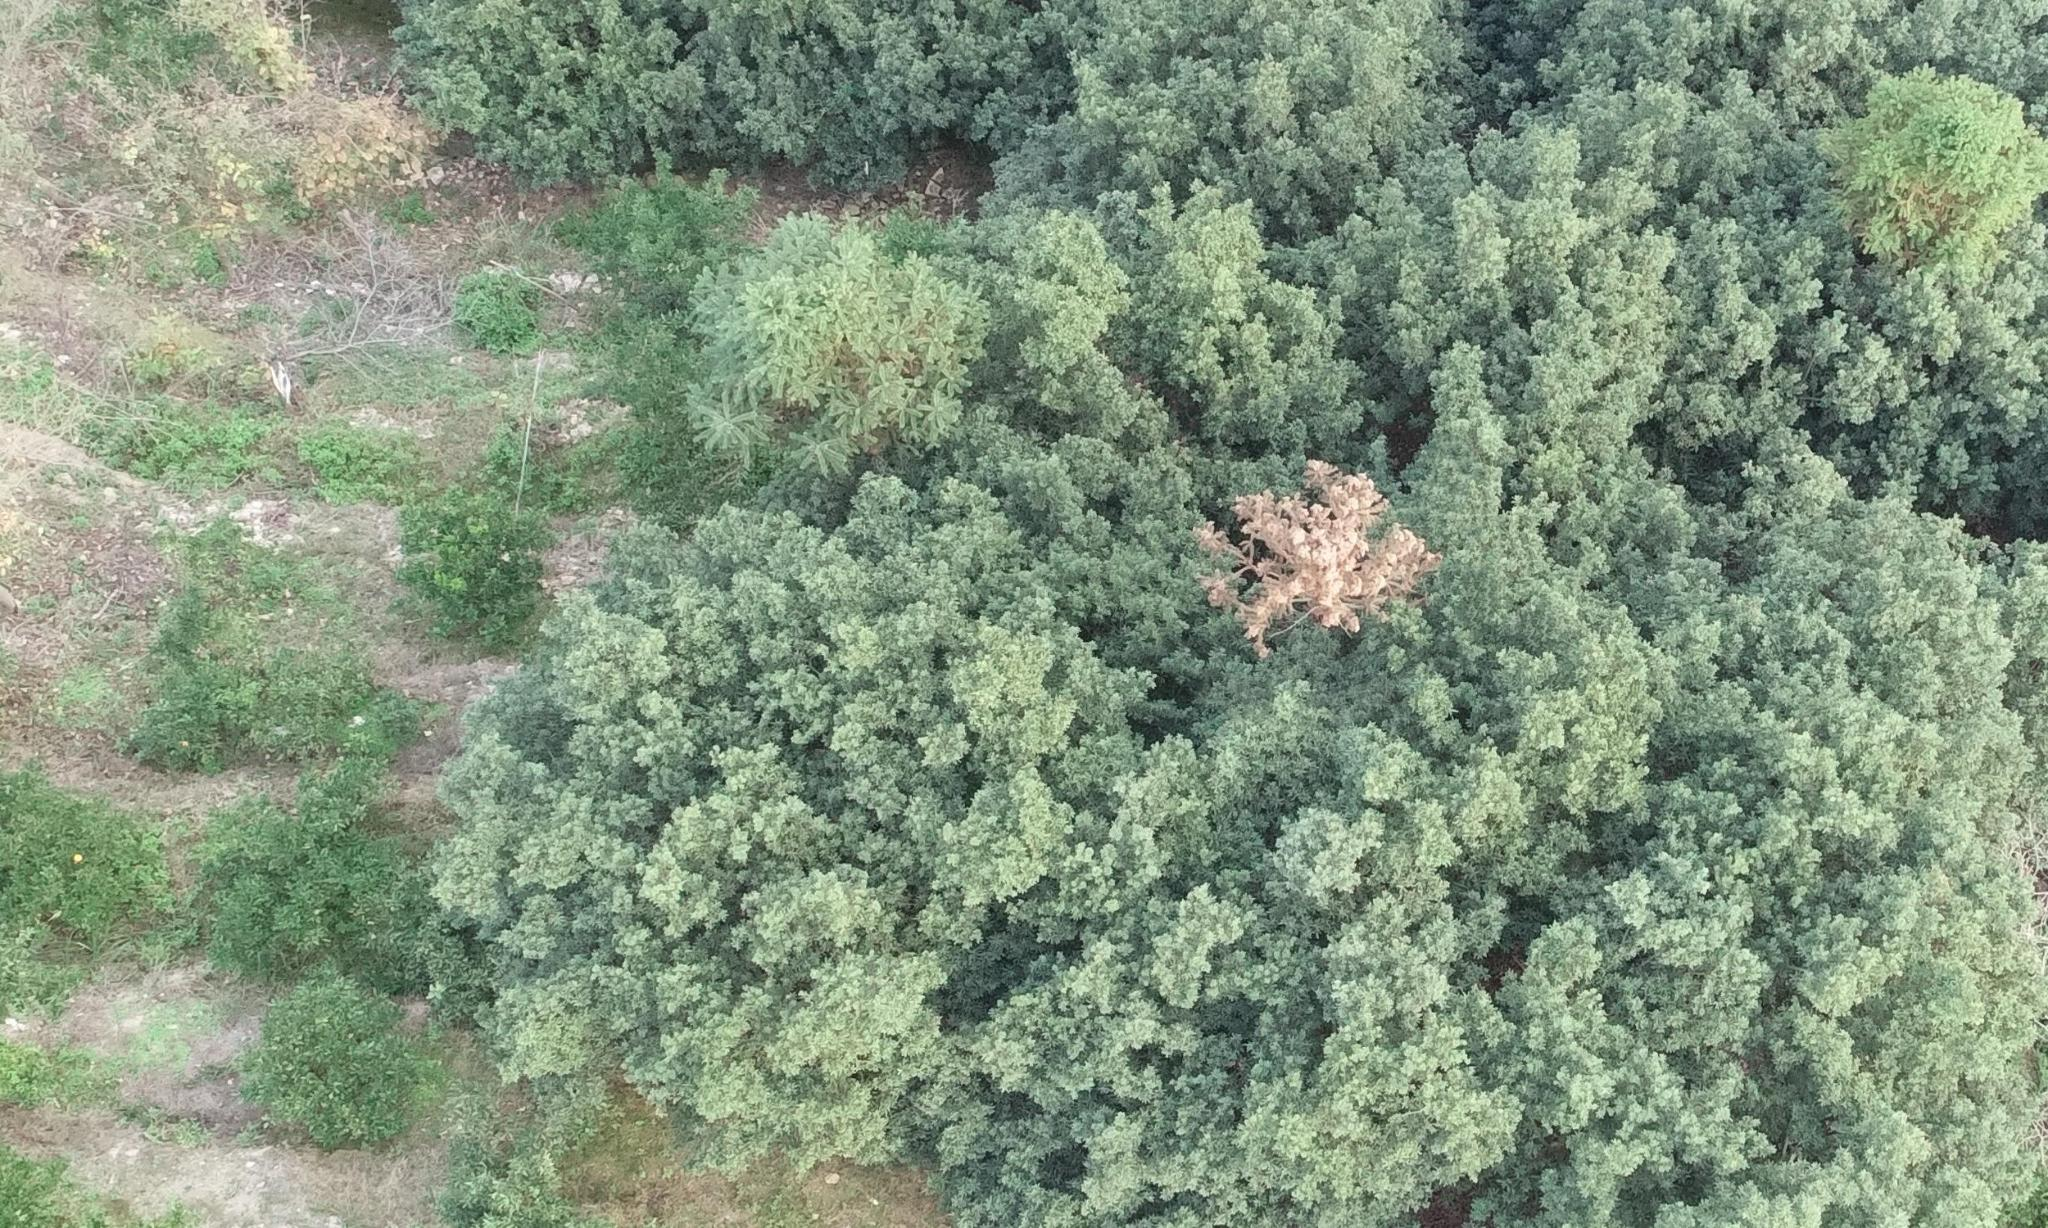heavy: (1194, 437, 1440, 655)
